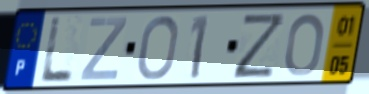1: (188, 13, 211, 82)
L: (38, 15, 75, 85)
O: (136, 13, 181, 82), (283, 12, 327, 79)
Z: (231, 11, 289, 81), (77, 15, 130, 82)
